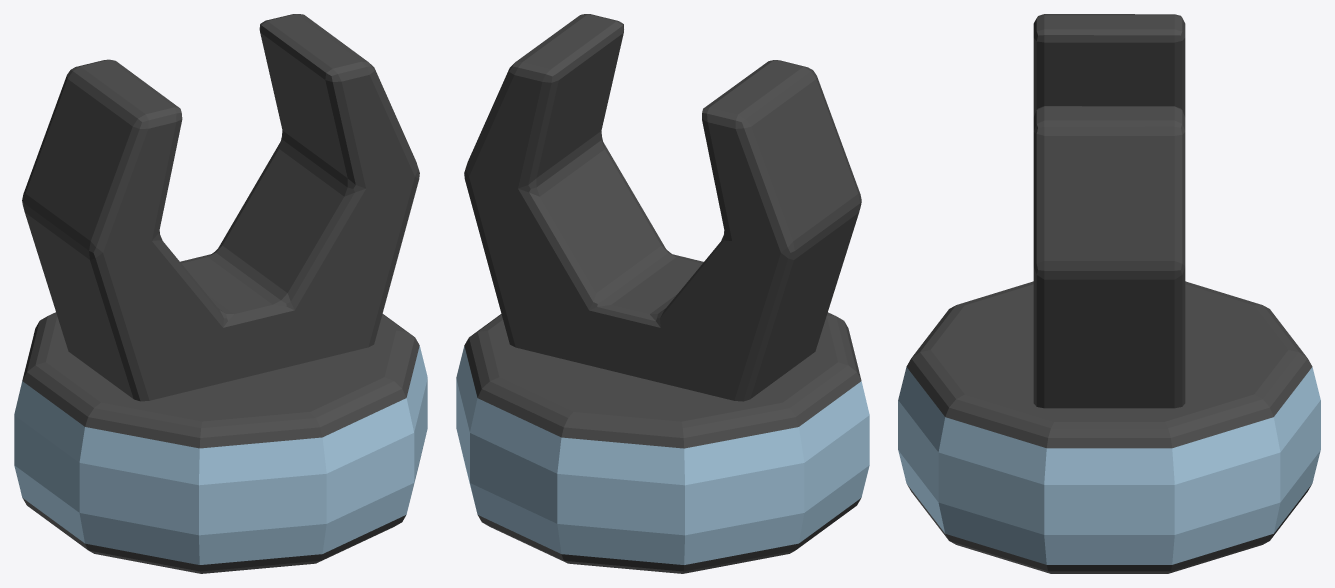
Rendered from hook.fbx.
3 views of the same model, side by side, from view 1: azimuth 30°, elevation 25°; view 2: azimuth 150°, elevation 25°; view 3: azimuth 270°, elevation 25° (orthographic).
Parts seen in each view (by area): view 1: Hook; view 2: Hook; view 3: Hook.
Boxes of the visible parts, <box> form: Hook: <box>14,14,427,573</box>; Hook: <box>456,14,869,573</box>; Hook: <box>898,14,1320,573</box>.
Bounding box in the file's own units: 149 × 176 × 156.
